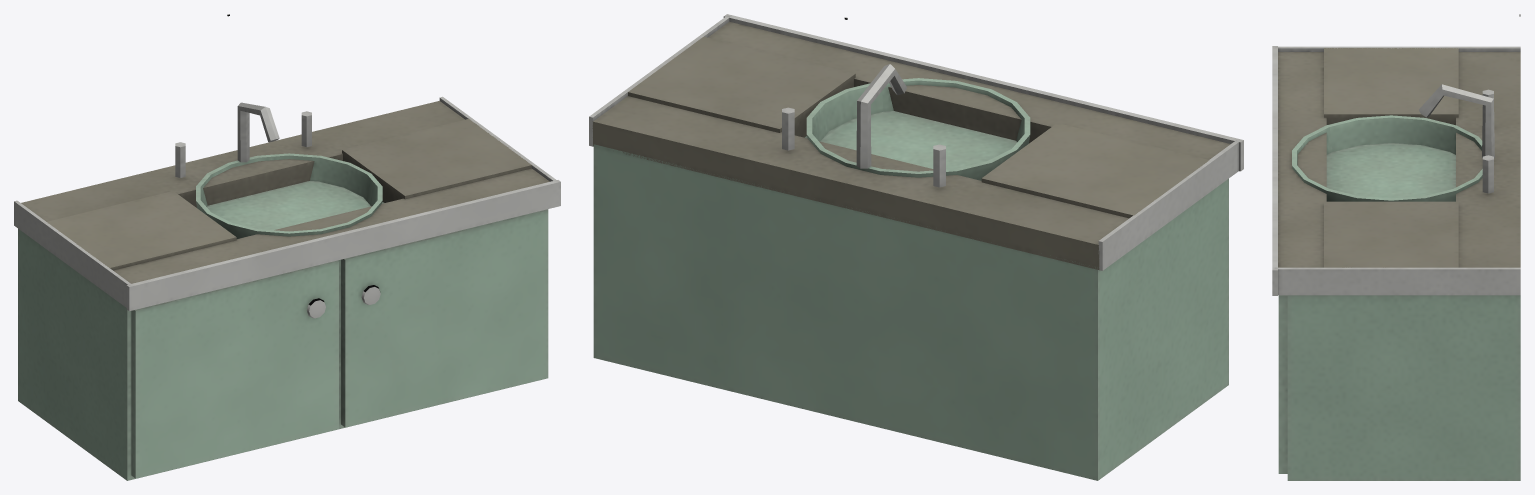
Rendered from H_Vanity.fbx.
The picture shows the model from 3 angles, left to right: view 1: azimuth 30°, elevation 25°; view 2: azimuth 150°, elevation 25°; view 3: azimuth 270°, elevation 25°; orthographic projection. The views are drawn at different scales.
Visible parts, largest first — view 1: H_Vanity; view 2: H_Vanity; view 3: H_Vanity.
Part boxes in pixels (bbox=[...]): H_Vanity: bbox=[14, 14, 560, 480]; H_Vanity: bbox=[589, 14, 1243, 480]; H_Vanity: bbox=[1272, 14, 1520, 480].
Bounding box in the file's own units: 410 × 304 × 192.
Materials: 1 (1 with a texture image).
